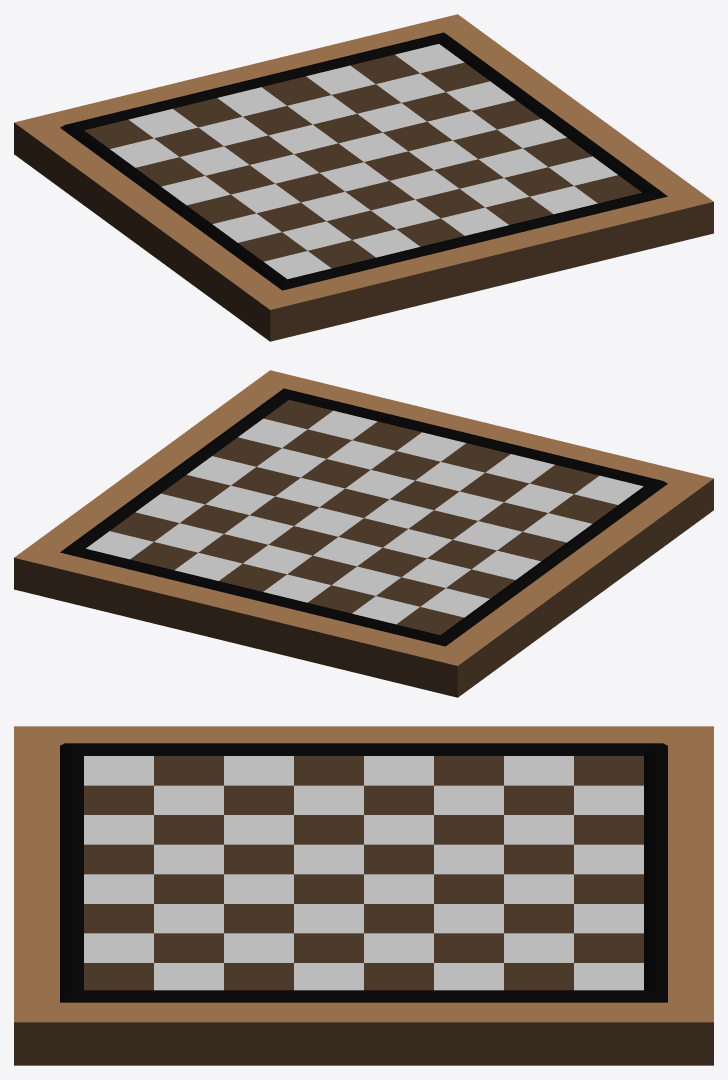
The model's file is board.fbx.
3 renders of one model, top to bottom at view 1: azimuth 30°, elevation 25°; view 2: azimuth 150°, elevation 25°; view 3: azimuth 270°, elevation 25°, orthographic. The views are drawn at different scales.
Visible parts, largest first — view 1: board, Cylinder.001; view 2: board, Cylinder.001; view 3: board, Cylinder.001.
Part boxes in pixels (x1,y1,x2,y2): board: (14, 14, 713, 341); Cylinder.001: (60, 32, 667, 290); board: (14, 370, 713, 697); Cylinder.001: (60, 388, 667, 646); board: (14, 726, 713, 1065); Cylinder.001: (60, 743, 667, 1002).
Bounding box in the file's own units: 2681 × 210 × 2681.
